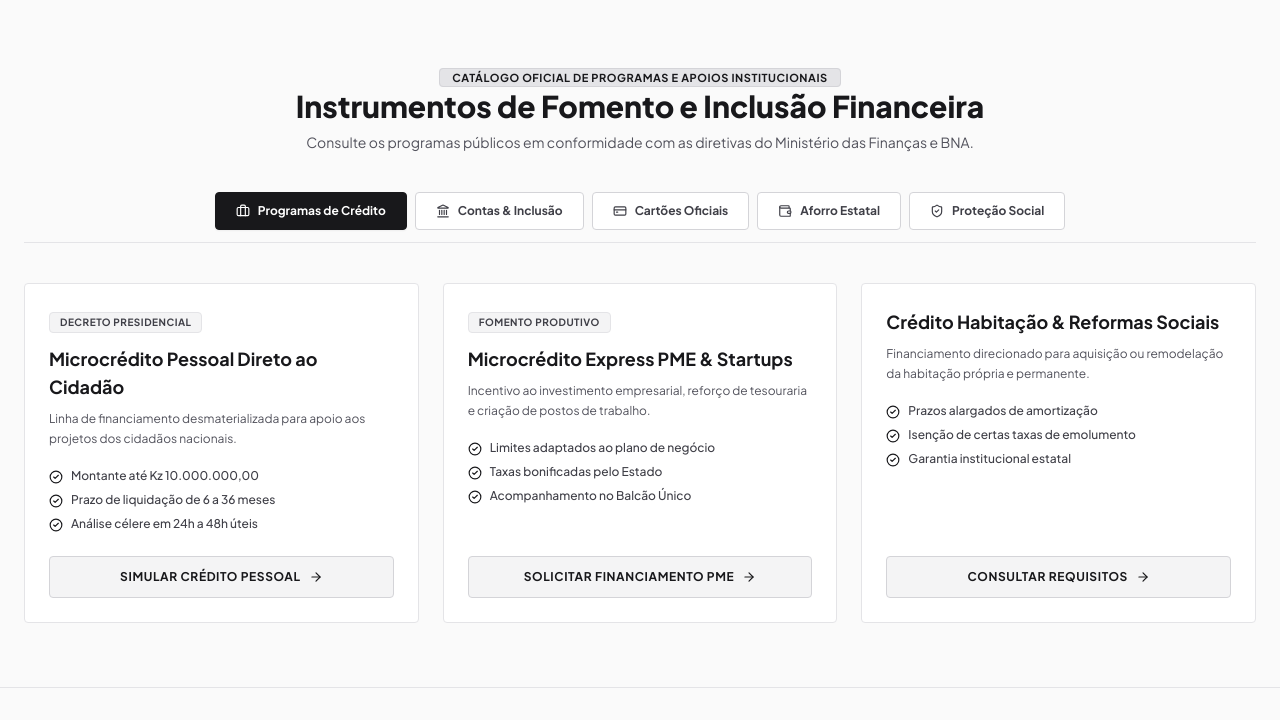
Scenario: ProductsSection Component › renders category tabs and switches product lists when clicked
This screenshot has width=1280, height=720.
Expected: the button with test id "product-tab-credito" is shown, [215,192,407,230]
Expected: the element with test id "product-card-credito-pessoal" is shown, [24,283,419,623]
# Click Contas tab
What coordinates should you click on to do the following:
click the button with test id "product-tab-contas"
I would click on:
 (499, 211)
Its box is [415,192,584,230].
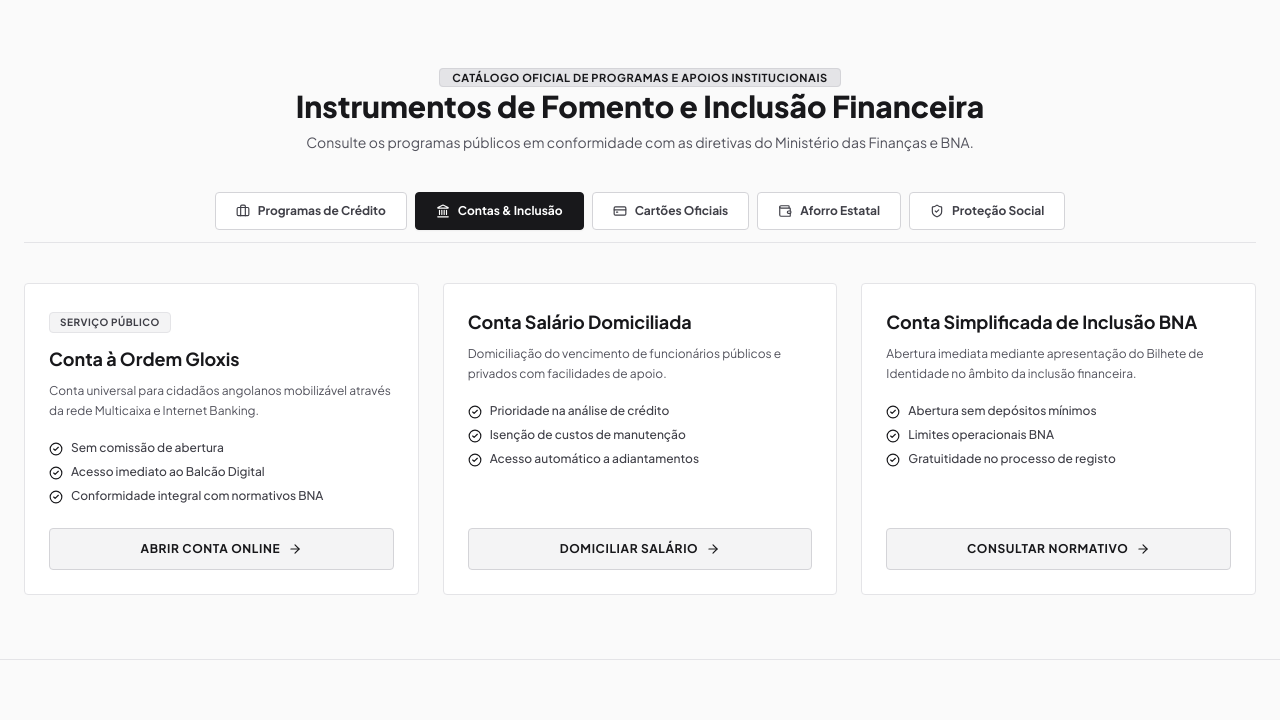
Now the element with test id "product-card-conta-ordem" is shown, box [24,283,419,595]
